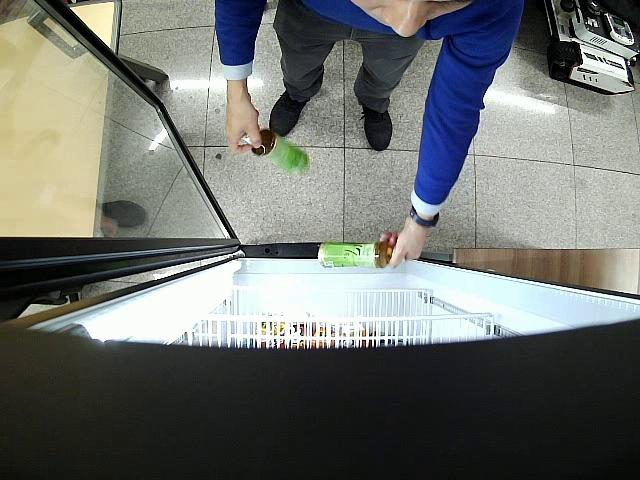00_hand: (227, 83, 262, 156), (390, 224, 429, 268)
19_17cha: (243, 129, 310, 176), (317, 242, 405, 267)
